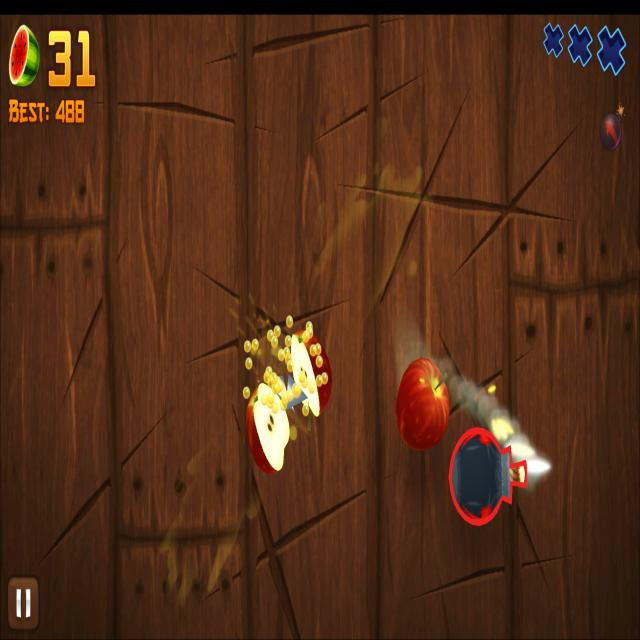bomb: (448, 426, 527, 526)
fruit: (395, 356, 450, 452)
